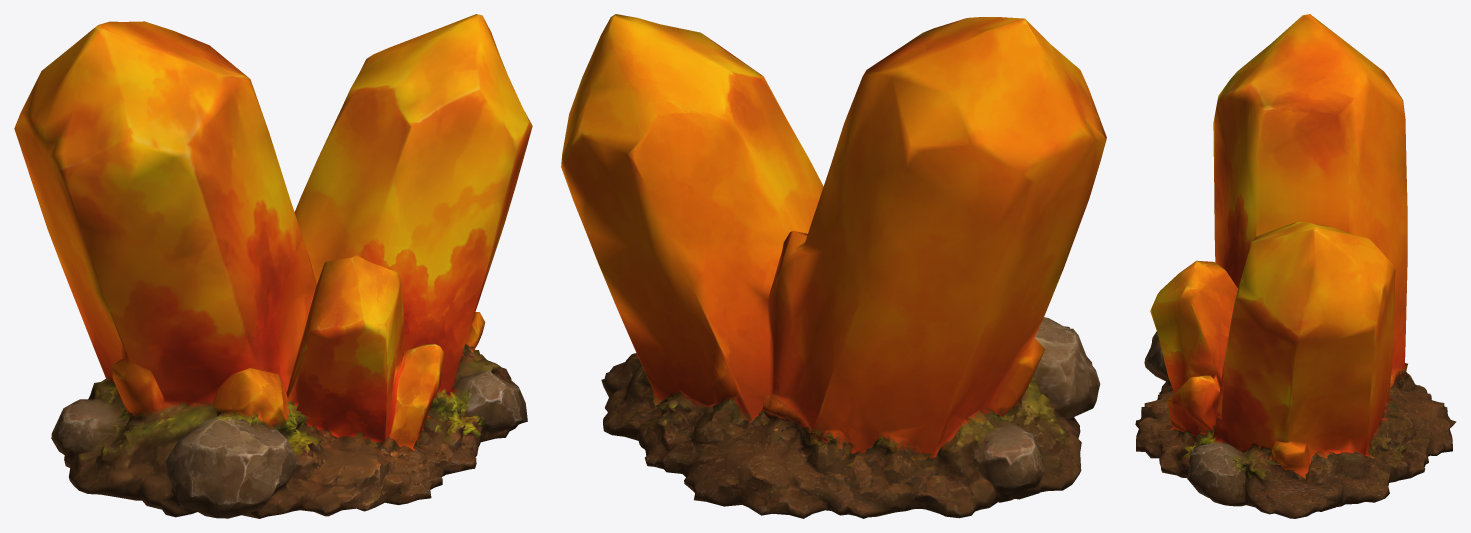
Rendered from source_2.glb.
The picture shows the model from 3 angles, left to right: view 1: azimuth 30°, elevation 25°; view 2: azimuth 150°, elevation 25°; view 3: azimuth 270°, elevation 25°; orthographic projection. The views are drawn at different scales.
Visible parts, largest first — view 1: tripo_node_0dff4c8f-f478-4673-b395-52ca6e07d7e0; view 2: tripo_node_0dff4c8f-f478-4673-b395-52ca6e07d7e0; view 3: tripo_node_0dff4c8f-f478-4673-b395-52ca6e07d7e0.
Part boxes in pixels (x1=…): tripo_node_0dff4c8f-f478-4673-b395-52ca6e07d7e0: x1=14, y1=14, x2=532, y2=518; tripo_node_0dff4c8f-f478-4673-b395-52ca6e07d7e0: x1=561, y1=14, x2=1106, y2=518; tripo_node_0dff4c8f-f478-4673-b395-52ca6e07d7e0: x1=1135, y1=14, x2=1456, y2=518.
Size of the model in its own units: 0.9791 by 0.8638 by 0.7092.
1 material, 1 textured.
